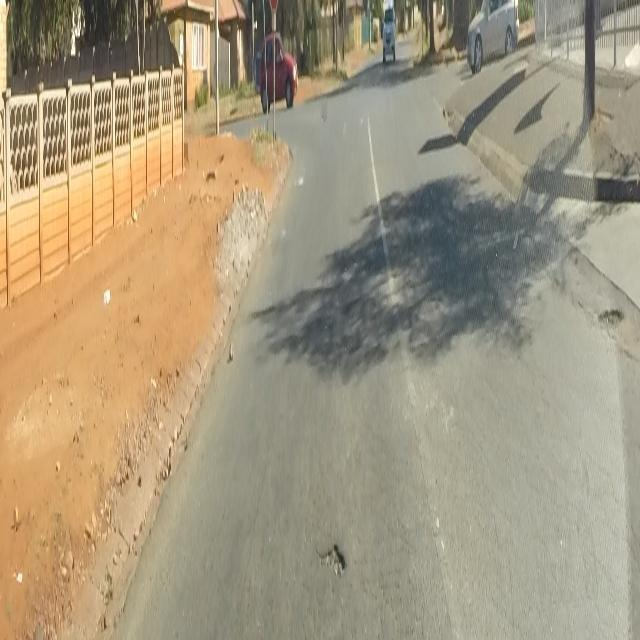pothole: (316, 532, 348, 590), (595, 296, 624, 332)
